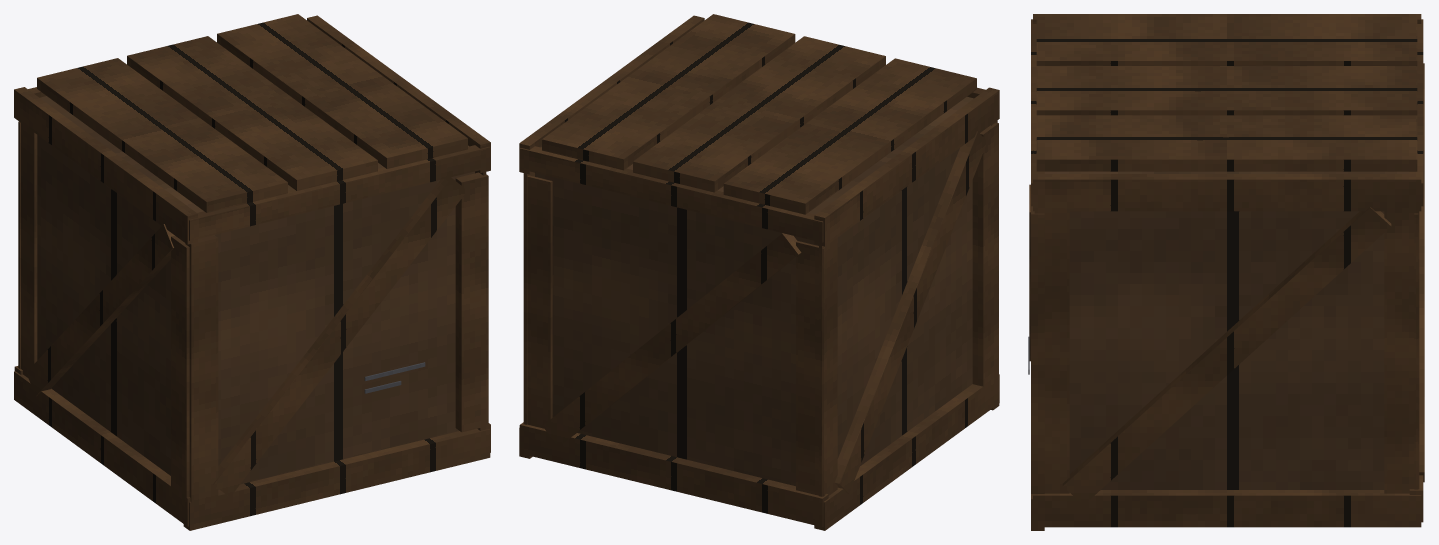
Rendered from crate.glb.
The picture shows the model from 3 angles, left to right: view 1: azimuth 30°, elevation 25°; view 2: azimuth 150°, elevation 25°; view 3: azimuth 270°, elevation 25°; orthographic projection. The views are drawn at different scales.
Visible parts, largest first — view 1: detail, crate-col; view 2: detail, crate-col; view 3: detail, crate-col.
Part boxes in pixels (bbox=[...]): detail: bbox=[14, 14, 490, 530]; crate-col: bbox=[37, 96, 474, 489]; detail: bbox=[519, 14, 999, 530]; crate-col: bbox=[535, 96, 973, 486]; detail: bbox=[1028, 14, 1424, 530]; crate-col: bbox=[1044, 171, 1409, 489].
Size of the model in its own units: 1.02 by 1.02 by 1.02.
Materials: 3 (3 with a texture image).
